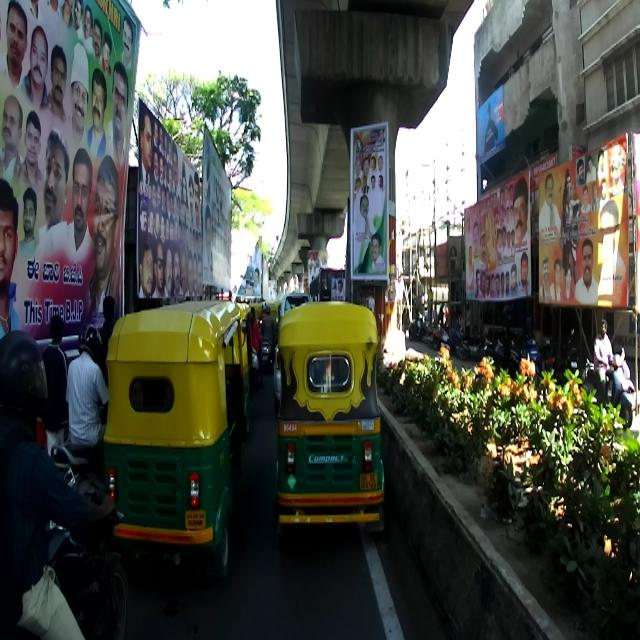autorickshaw: (102, 298, 248, 583), (275, 298, 385, 546)
motorcycle_Honda: (0, 465, 126, 638)
scooter: (48, 442, 114, 546), (584, 351, 632, 436), (595, 346, 635, 405)
